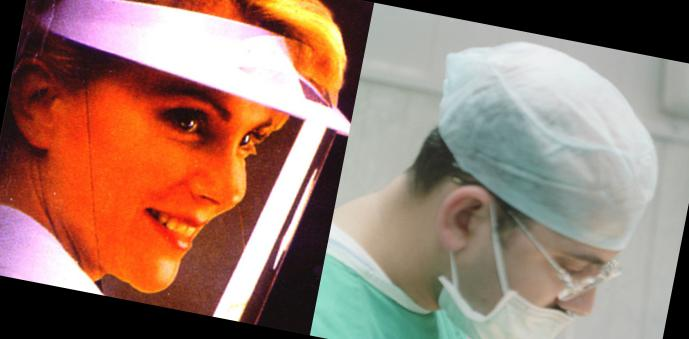mask_weared_incorrect: (463, 208, 633, 339)
without_mask: (80, 72, 285, 313)
